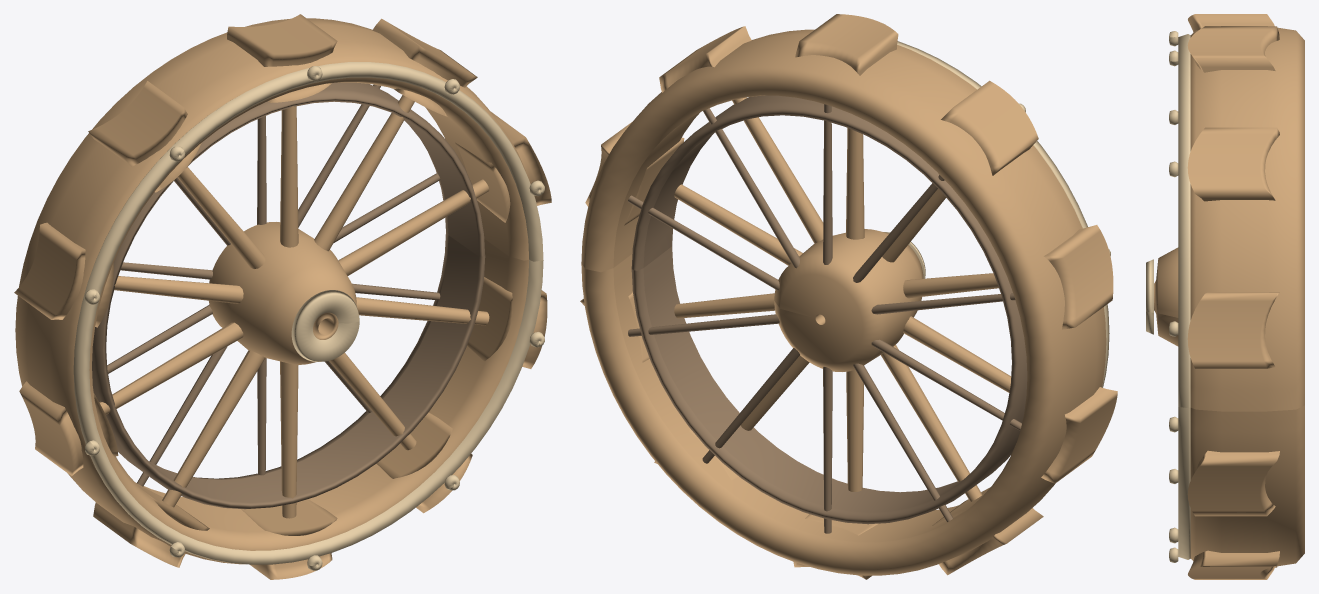
Rendered from studio-waterwheel-v35.gltf.
3 views of the same model, side by side, from view 1: azimuth 30°, elevation 25°; view 2: azimuth 150°, elevation 25°; view 3: azimuth 270°, elevation 25° (orthographic). The views are drawn at different scales.
Visible parts, largest first — view 1: Rim forged outer, Rim inner structure, Rim front gold inlay, Hub forged, Bucket 10, Bucket 9, Bucket 1, Bucket 8, Hub circular rim, Bucket 3, Bucket 6, Bucket 5 (+21 smaller); view 2: Rim forged outer, Rim inner structure, Hub forged, Bucket 10, Bucket 9, Bucket 1, Bucket 8, Spoke 7 fore, Spoke 2 fore, Spoke 3 fore, Spoke 8 fore, Spoke 6 fore (+19 smaller); view 3: Rim forged outer, Rim front gold inlay, Bucket 3, Bucket 2, Bucket 4, Bucket 1, Bucket 5, Hub forged, Bucket 10, Hub circular rim.
Part boxes in pixels (box(x1,y1,x2,y2)): Rim forged outer: box(15, 18, 529, 564); Rim inner structure: box(92, 82, 485, 509); Rim front gold inlay: box(73, 62, 543, 564); Hub forged: box(209, 222, 356, 364); Bucket 10: box(88, 81, 201, 192); Bucket 9: box(14, 222, 113, 327); Bucket 1: box(227, 14, 337, 102); Bucket 8: box(19, 381, 118, 475); Hub circular rim: box(291, 290, 359, 361); Bucket 3: box(455, 111, 551, 222); Bucket 6: box(241, 499, 337, 579); Bucket 5: box(376, 412, 472, 513); Rim forged outer: box(581, 29, 1106, 575); Rim inner structure: box(631, 95, 1027, 524); Hub forged: box(774, 229, 923, 371); Bucket 10: box(941, 80, 1038, 175); Bucket 9: box(1044, 225, 1113, 329); Bucket 1: box(795, 14, 898, 75); Bucket 8: box(1041, 387, 1117, 483); Spoke 7 fore: box(881, 344, 982, 501); Spoke 2 fore: box(732, 97, 823, 243); Spoke 3 fore: box(674, 184, 802, 265); Spoke 8 fore: box(903, 316, 1011, 392); Spoke 6 fore: box(846, 370, 863, 491); Rim forged outer: box(1190, 26, 1304, 566); Rim front gold inlay: box(1178, 34, 1190, 559); Bucket 3: box(1187, 292, 1279, 368); Bucket 2: box(1187, 127, 1279, 201); Bucket 4: box(1187, 450, 1279, 516); Bucket 1: box(1187, 26, 1279, 72); Bucket 5: box(1188, 550, 1279, 579); Hub forged: box(1154, 247, 1178, 346); Bucket 10: box(1188, 14, 1274, 32); Hub circular rim: box(1146, 259, 1153, 334).
Bounding box in the file's own units: 5.02 × 5.06 × 1.43.
